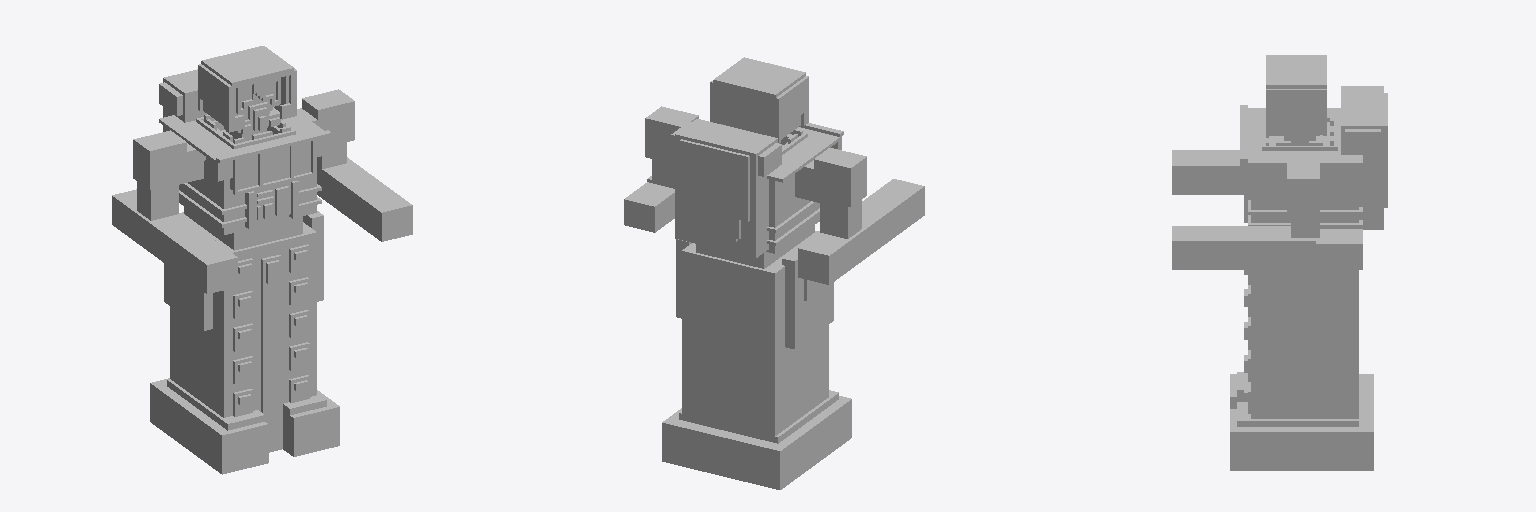
Rendered from ENEMY NPC OBJ.obj.
3 renders of one model, left to right at view 1: azimuth 30°, elevation 25°; view 2: azimuth 150°, elevation 25°; view 3: azimuth 270°, elevation 25°, orthographic.
Visible parts, largest first — view 1: object 1; view 2: object 1; view 3: object 1.
Part boxes in pixels (x1,y1,x2,y2): object 1: (112, 46, 412, 474); object 1: (624, 57, 924, 489); object 1: (1172, 55, 1387, 470).
Bounding box in the file's own units: 6.6 × 11.4 × 6.